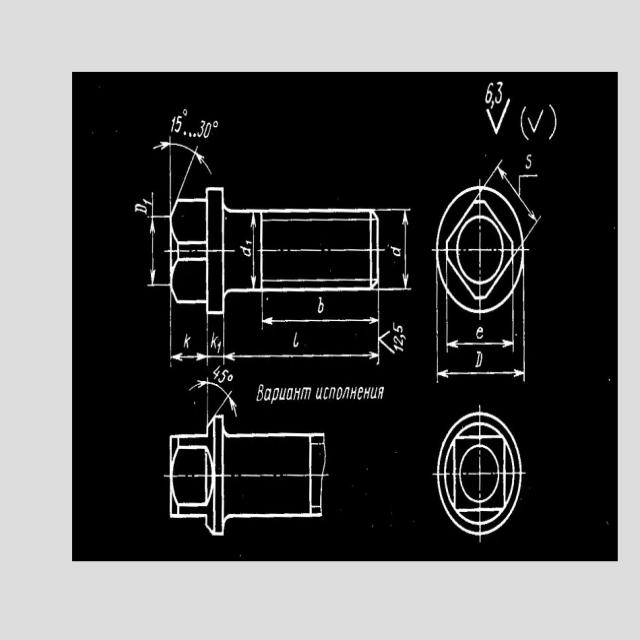marking_line: (223, 331, 379, 365), (261, 292, 380, 330), (152, 136, 206, 197), (435, 350, 526, 384), (379, 208, 411, 291), (446, 315, 515, 352), (189, 378, 245, 417), (168, 315, 208, 366), (492, 154, 543, 188), (147, 216, 170, 287), (523, 191, 546, 242), (250, 213, 257, 287), (211, 332, 219, 349)
numeric: (495, 81, 504, 104), (485, 83, 494, 104), (203, 121, 213, 138), (218, 370, 230, 384), (392, 321, 405, 333), (475, 350, 483, 369), (212, 366, 222, 380), (175, 116, 183, 133), (317, 296, 324, 315), (239, 246, 251, 257), (391, 245, 401, 258), (134, 204, 147, 214), (183, 334, 191, 350), (198, 118, 204, 137), (393, 336, 404, 346), (293, 332, 299, 348), (476, 327, 484, 339), (143, 198, 152, 208), (170, 116, 175, 133), (395, 346, 405, 352), (245, 238, 252, 245), (217, 341, 221, 353)
special_symbol: (486, 99, 511, 136), (527, 106, 546, 133), (379, 330, 395, 354), (547, 103, 557, 141), (520, 104, 529, 141), (400, 334, 407, 341), (183, 108, 188, 117), (265, 295, 270, 303), (490, 99, 494, 108), (228, 375, 233, 382), (214, 121, 218, 129), (188, 132, 192, 137), (483, 152, 487, 157), (193, 401, 197, 405), (184, 131, 187, 135), (193, 133, 196, 137)
